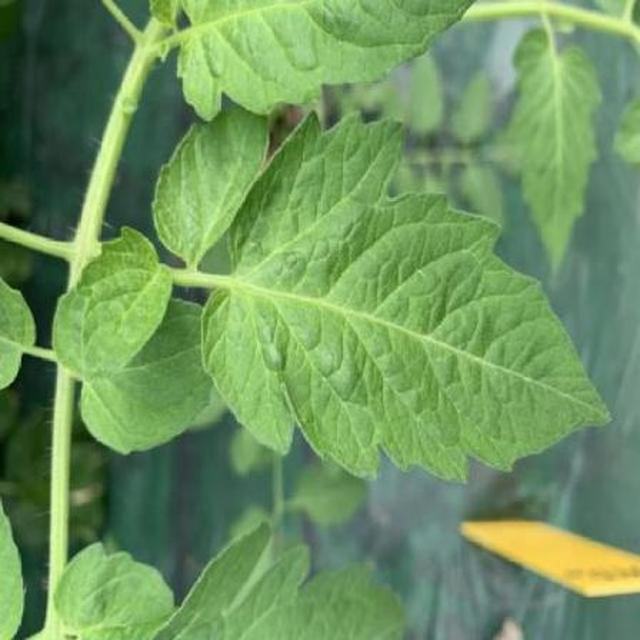Healthy Leaf: (161, 213, 585, 530)
